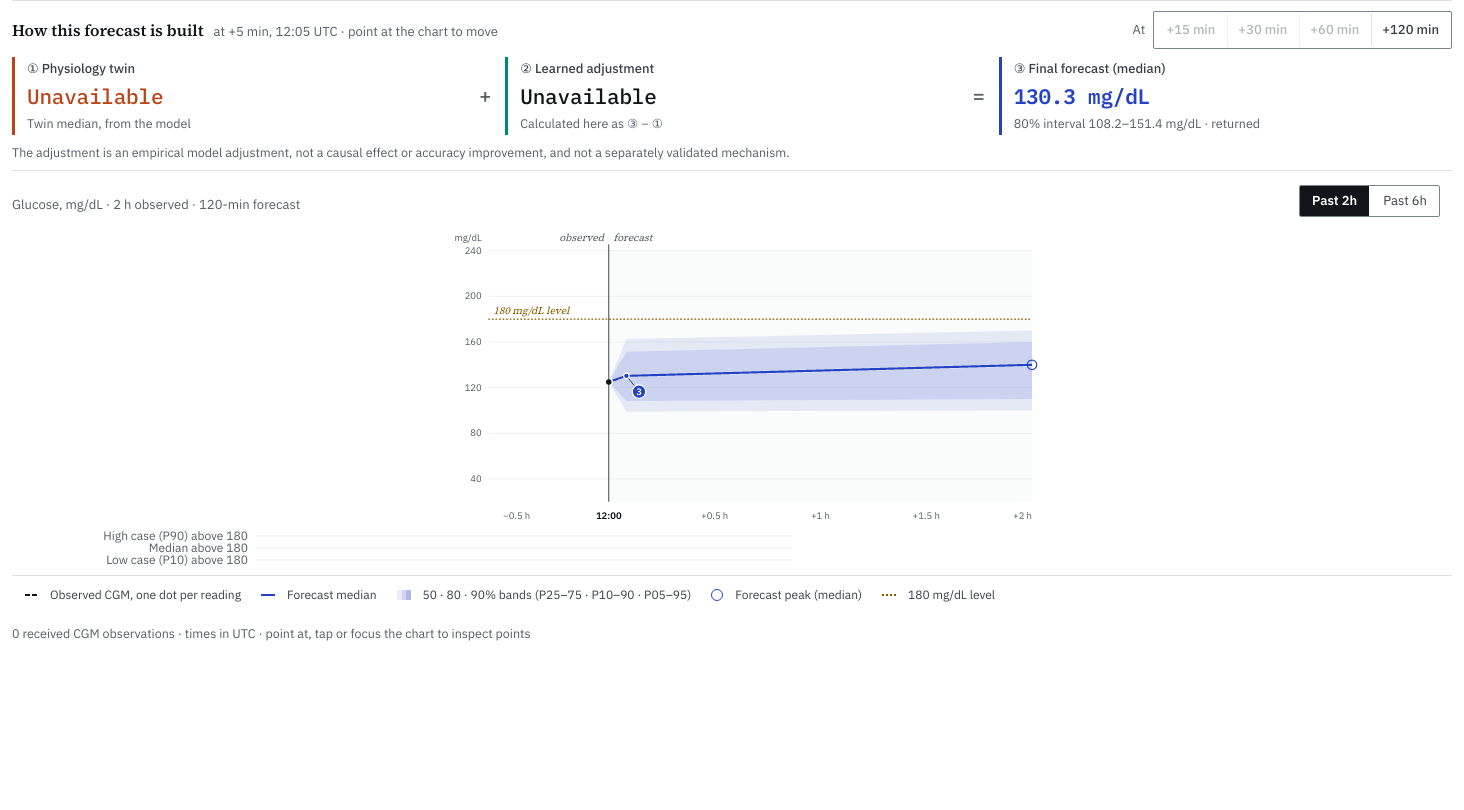
Test: Observed and forecast inspection › clears inspection when its observed window hides the selected point
Press Home in the picture, box [12,226,1452,526]
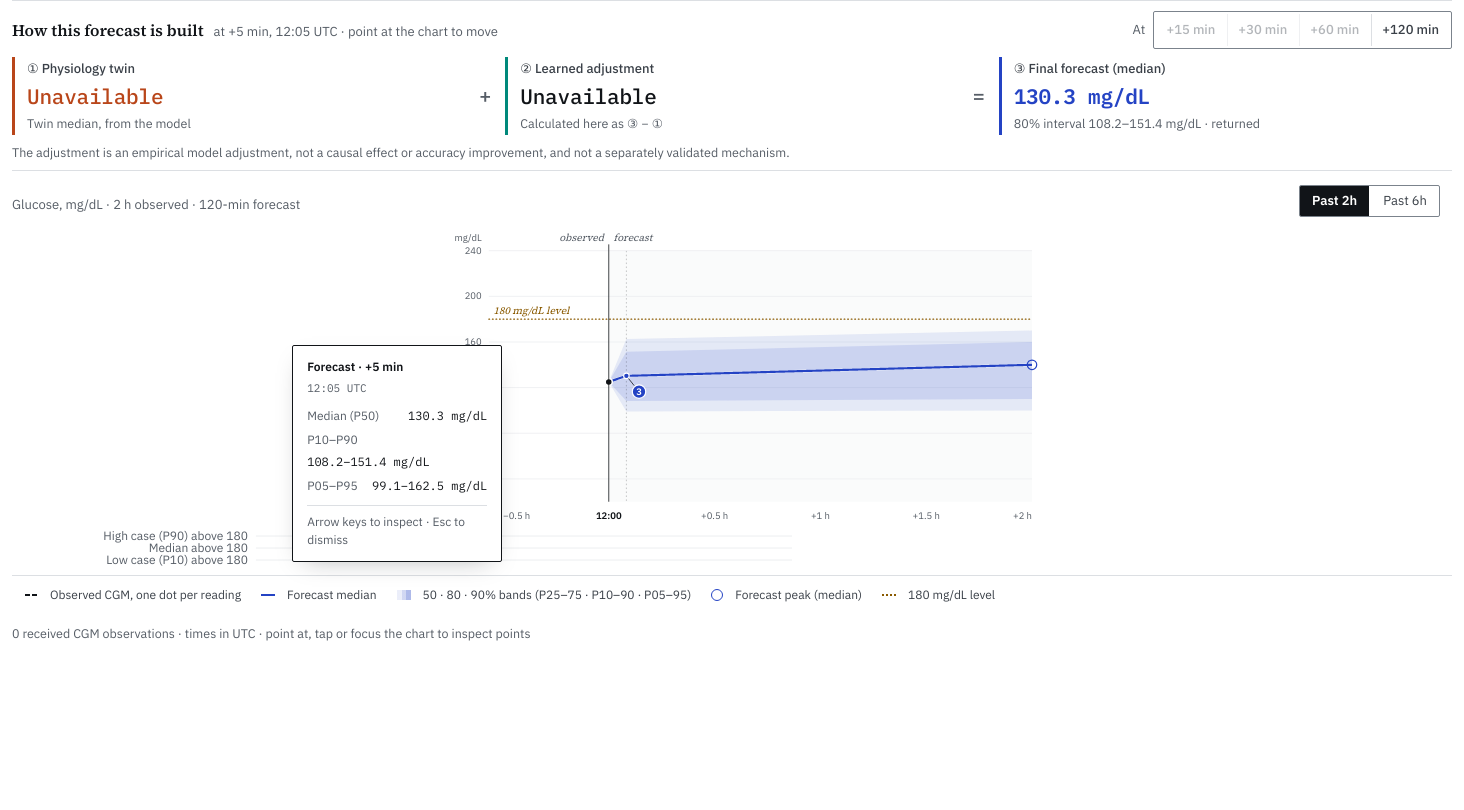
Check: the tooltip is shown, box [292,345,502,562]
Click the button "Past 2h" at (1335, 200), box [1300,186,1369,216]
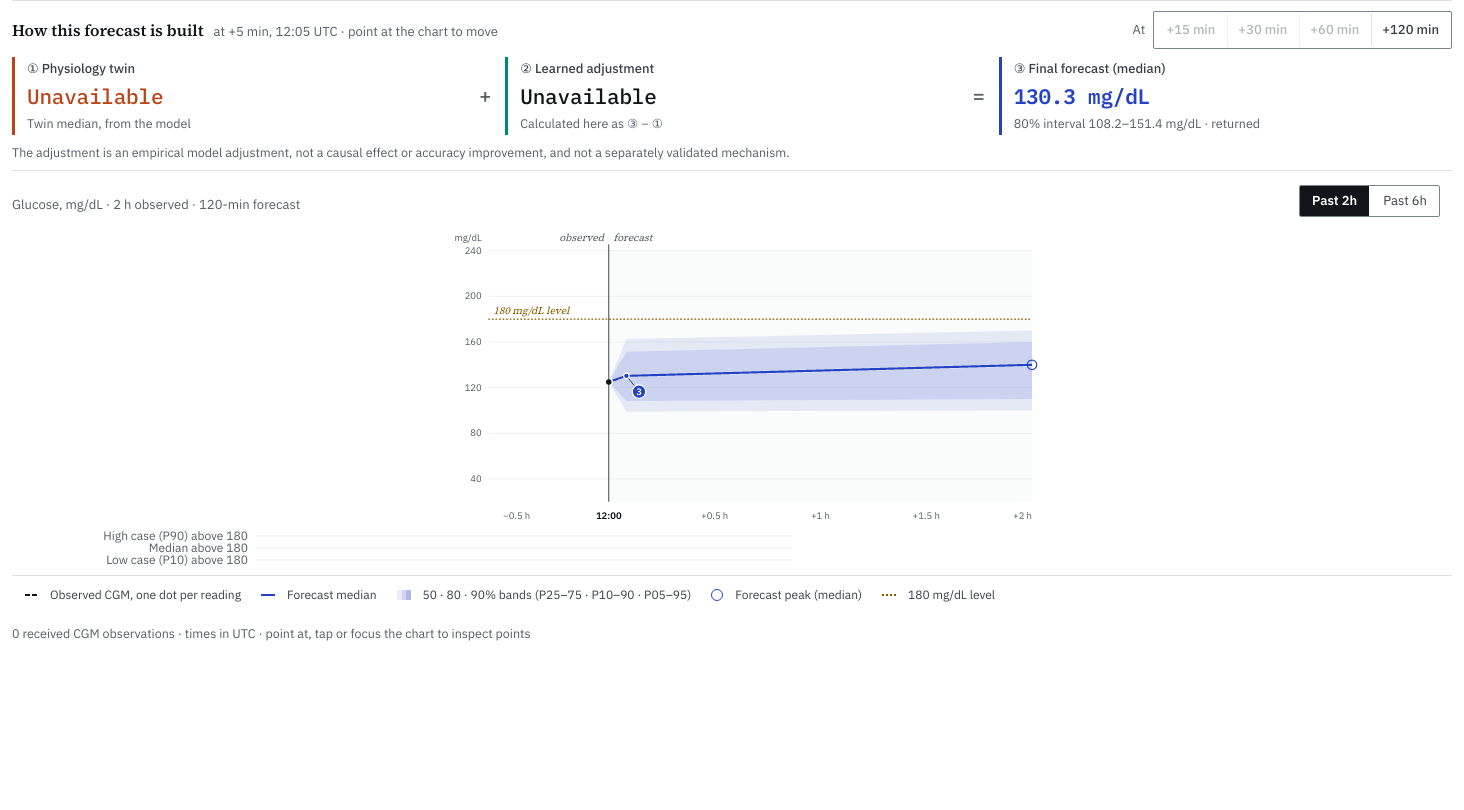
Check: the tooltip is gone
